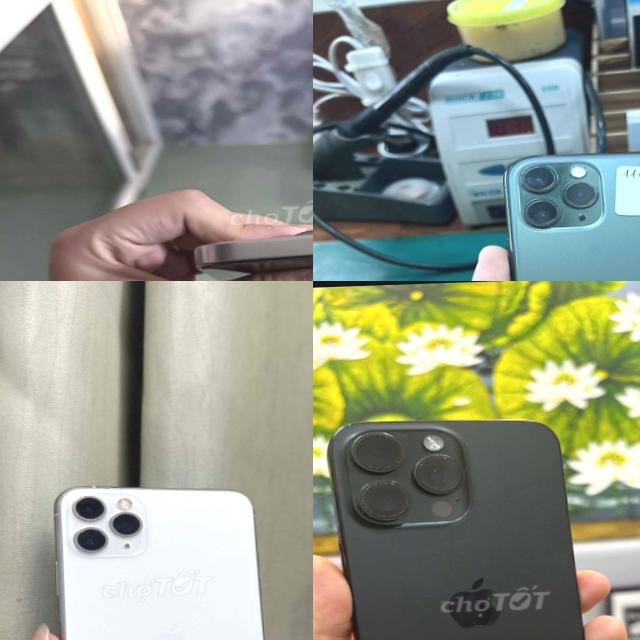gen_11: (46, 474, 288, 640), (502, 145, 640, 281)
gen_15: (317, 413, 613, 640), (190, 195, 313, 281)
